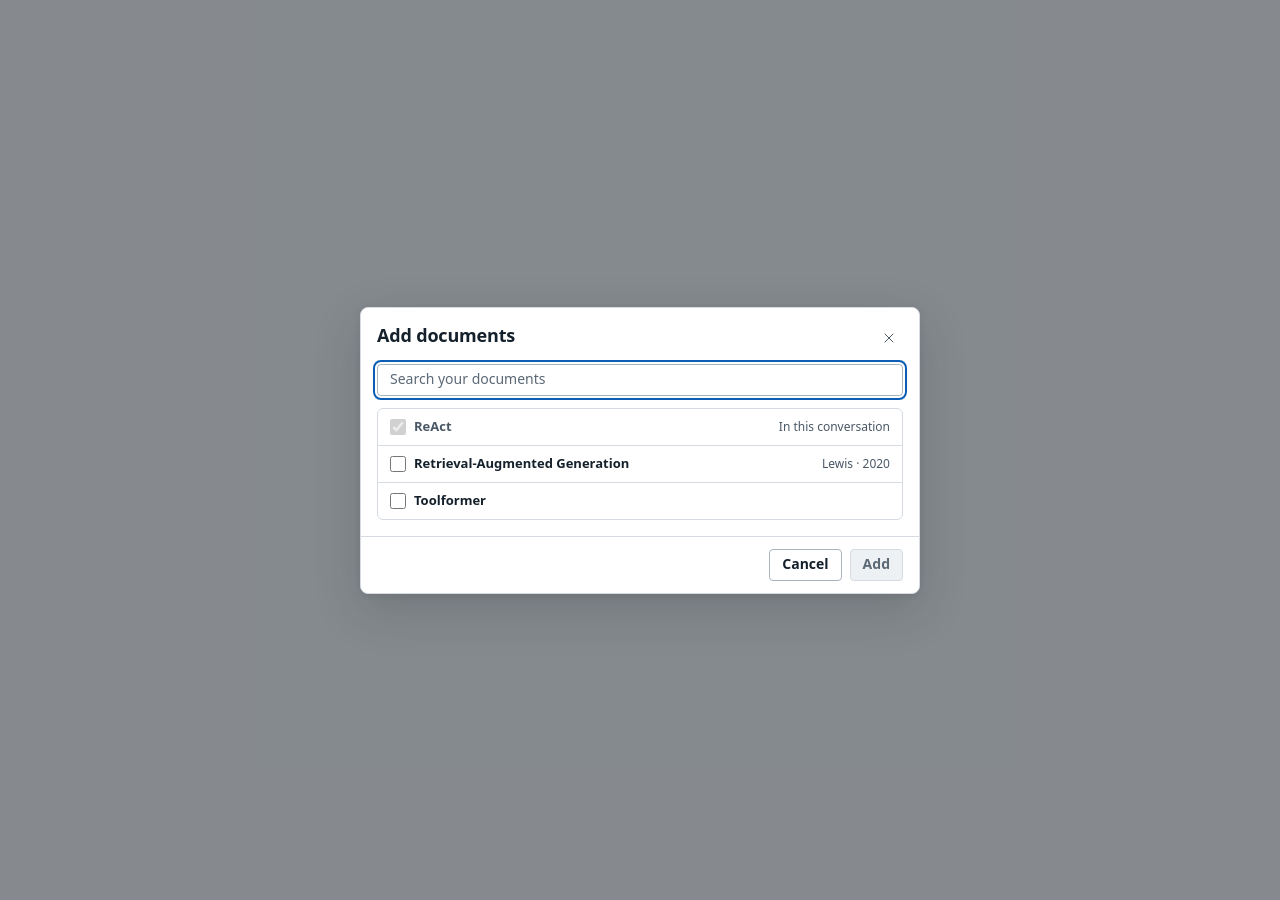
Test case: DocumentPicker › unchecking takes a document out of the selection
Click the checkbox labelled "Toolformer" at [398, 500], box [390,492,406,508]
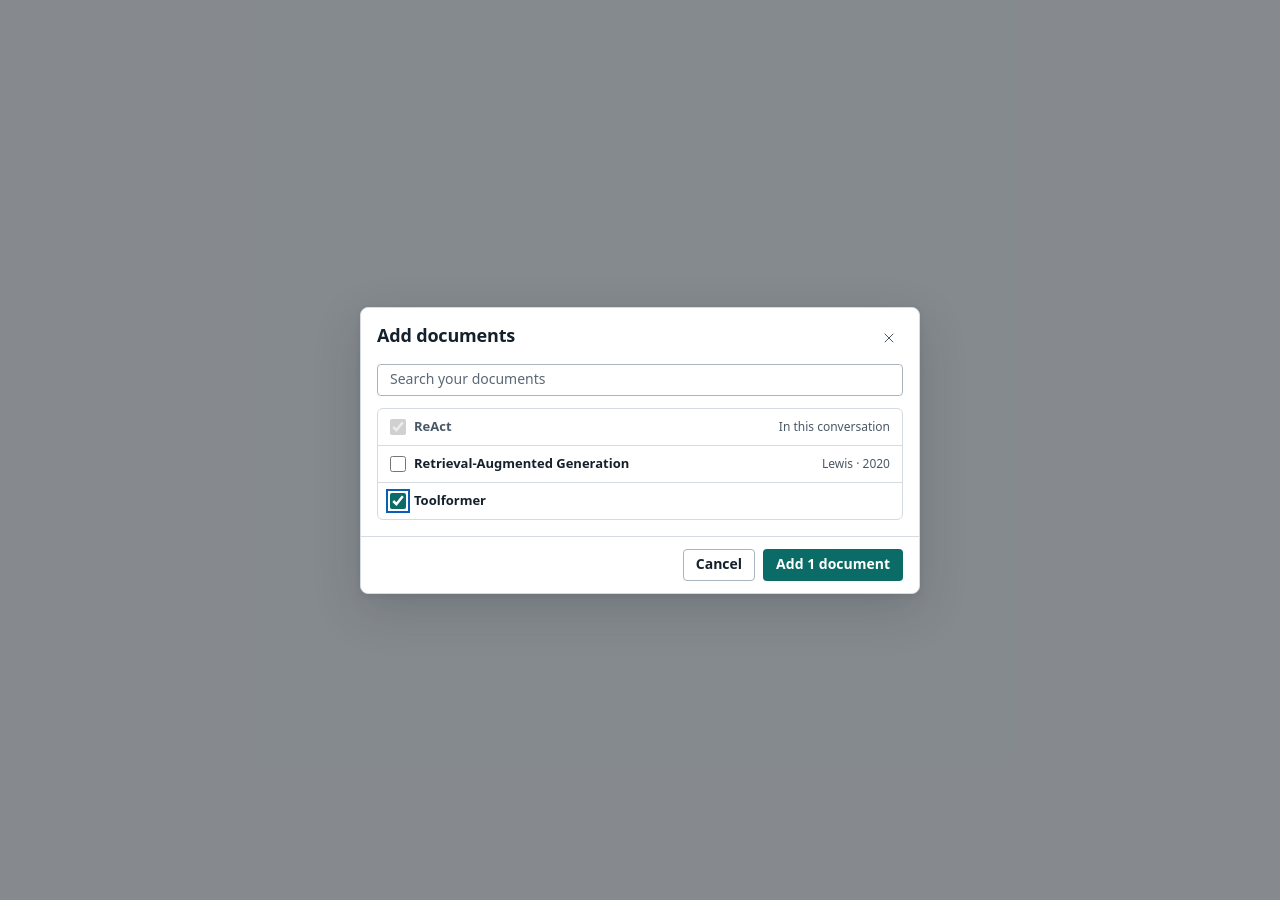
Click the checkbox labelled "Toolformer" at [398, 500], box [390,492,406,508]
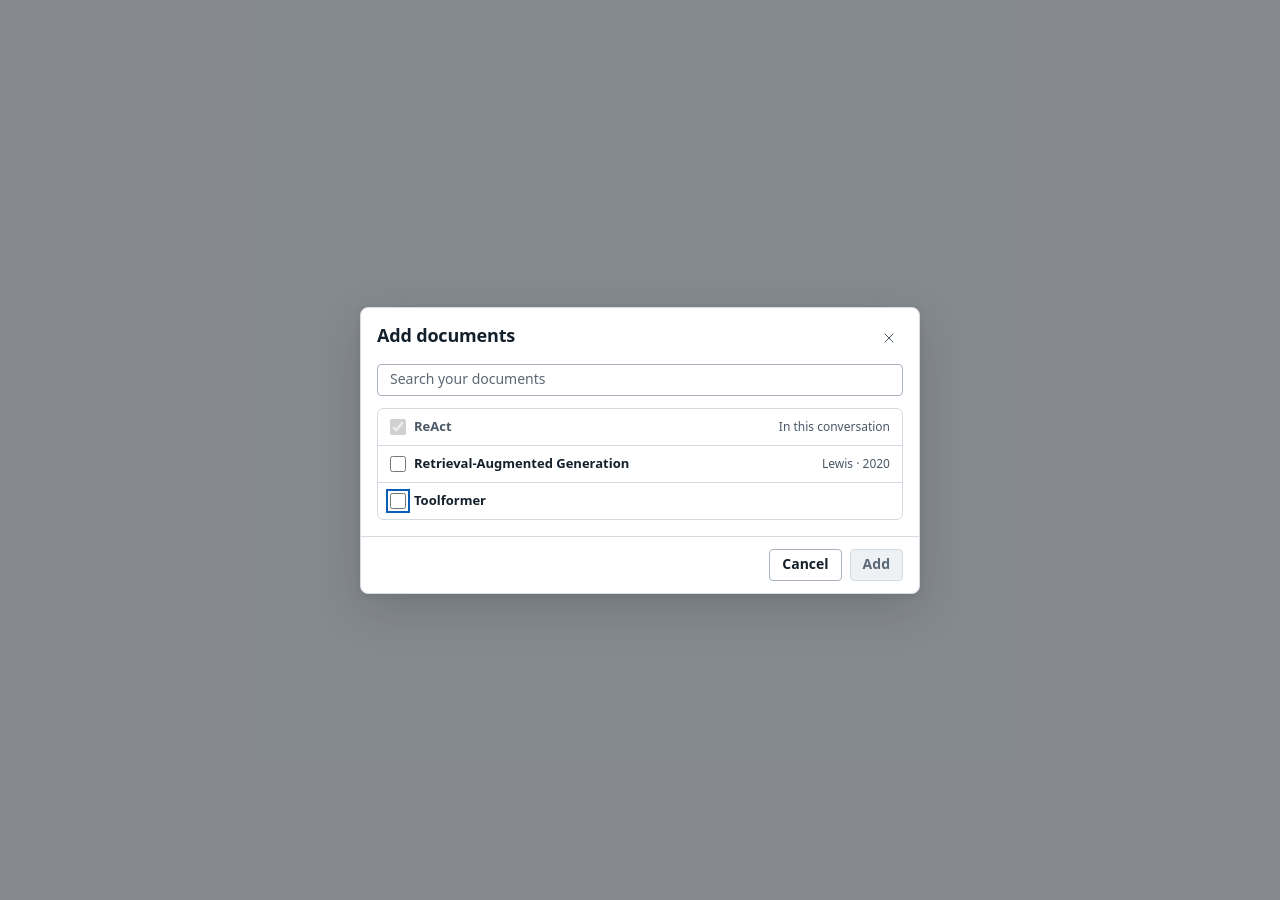
Result: the button "Add" is shown at [850,548,903,580]
Result: the button "Add" is disabled at [850,548,903,580]
